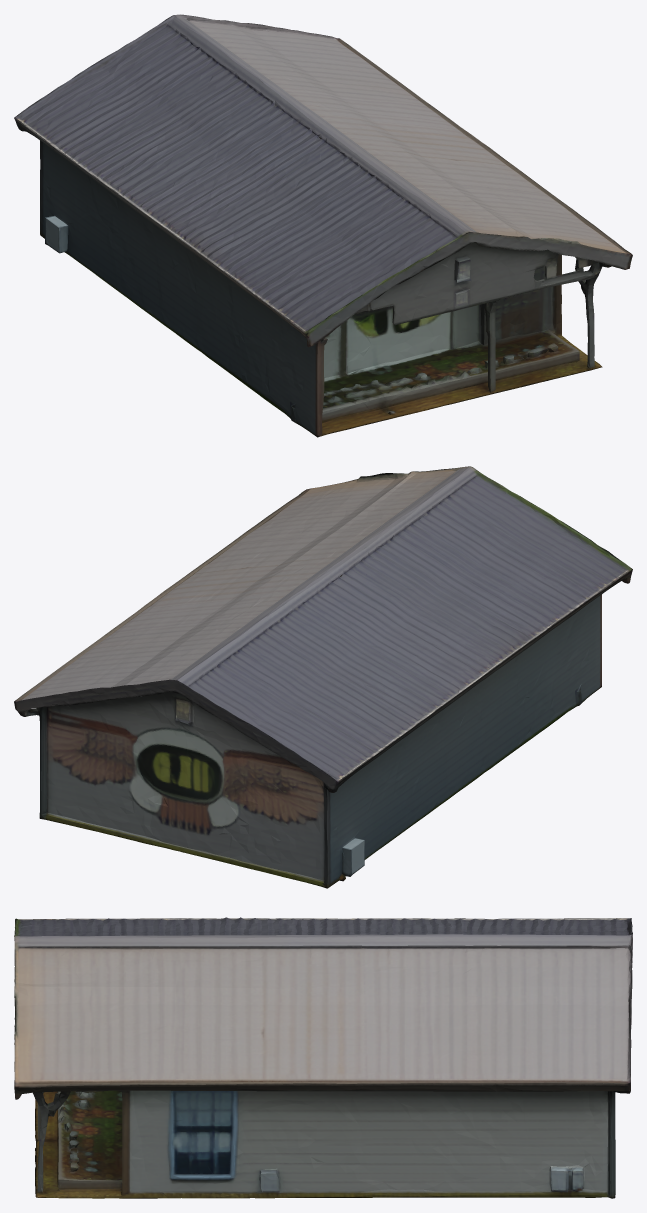
File: RaceTrackBuilding1.glb
3 views of the same model, one above another, from view 1: azimuth 30°, elevation 25°; view 2: azimuth 150°, elevation 25°; view 3: azimuth 270°, elevation 25° (orthographic). The views are drawn at different scales.
Visible parts, largest first — view 1: world; view 2: world; view 3: world.
Boxes of the visible parts, x1=… form: world: x1=14, y1=14, x2=632, y2=437; world: x1=14, y1=466, x2=632, y2=888; world: x1=14, y1=917, x2=632, y2=1198.
Size of the model in its own units: 0.6379 by 0.338 by 0.9939.
Materials: 1 (1 with a texture image).
